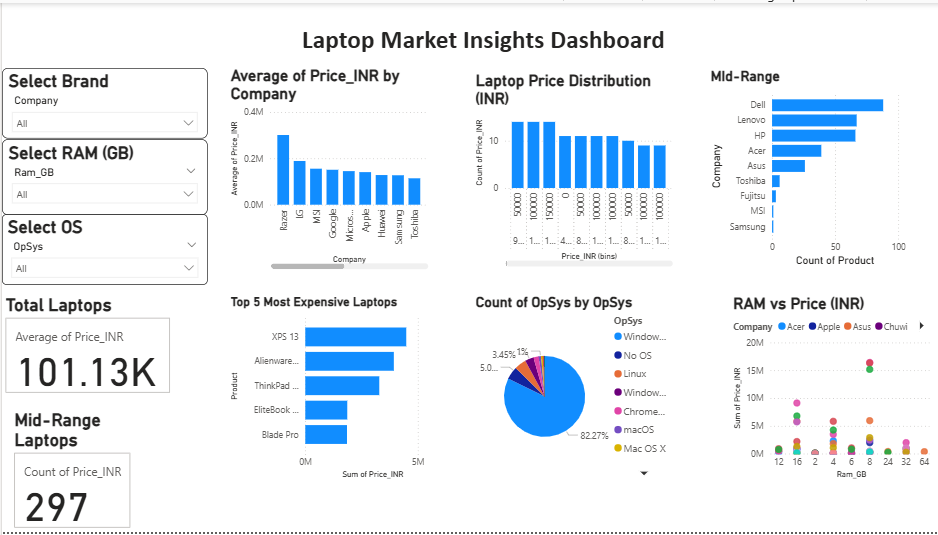

The page's visual inventory and layout, read from the dashboard file:
{"tool":"powerbi","page":{"name":"Page 1","canvas":[1280,720],"ordinal":0},"visuals":[{"type":"cardVisual","title":"Total Laptops","fields":{"Data":["Avg(Laptops.Price_INR)"]},"box":[0,426.7,234.9,139.5],"z":0},{"type":"cardVisual","title":"Mid-Range Laptops","fields":{"Data":["CountNonNull(Laptops.Price_INR)"]},"box":[0,579.1,225.6,140.7],"z":1000},{"type":"clusteredColumnChart","fields":{"Category":["Laptops.Company"],"Y":["Avg(Laptops.Price_INR)"]},"box":[306.4,86.8,279.1,280.9],"z":2000},{"type":"clusteredColumnChart","title":"Laptop Price Distribution (INR)","fields":{"Category":["Laptops.Price_INR","Laptops.Price_INR (bins)"],"Y":["CountNonNull(Laptops.Price_INR)"]},"box":[639.5,93.3,278.6,270.3],"z":3000},{"type":"clusteredBarChart","title":"Top 5 Most Expensive Laptops","fields":{"Category":["Laptops.Product"],"Y":["Sum(Laptops.Price_INR)"]},"box":[306.4,396.6,304.7,257],"z":4000},{"type":"scatterChart","title":"RAM vs Price (INR)","fields":{"Series":["Laptops.Company"],"Y":["Sum(Laptops.Price_INR)"],"X":["Laptops.Ram_GB"]},"box":[990.6,396.6,280.9,257],"z":5000},{"type":"pieChart","fields":{"Category":["Laptops.OpSys"],"Y":["CountNonNull(Laptops.OpSys)"]},"box":[640,396.6,279.1,257],"z":6000},{"type":"clusteredBarChart","title":"MId-Range","fields":{"Category":["Laptops.Company"],"Y":["CountNonNull(Laptops.Product)"]},"box":[960,88.5,275.7,275.7],"z":7000},{"type":"textbox","title":"Laptop Market Insights Dashboard","box":[362.3,28.8,585.9,46.7],"z":8000},{"type":"slicer","title":"Select Brand","fields":{"Values":["Laptops.Company"]},"box":[0,89.2,279.9,96.1],"z":9000},{"type":"slicer","title":"Select RAM (GB)","fields":{"Values":["Laptops.Ram_GB"]},"box":[0,185.2,279.9,102.9],"z":10000},{"type":"slicer","title":"Select OS","fields":{"Values":["Laptops.OpSys"]},"box":[0,288.2,279.9,96.1],"z":11000}]}

Visuals, with their boxes in screenshot pixels (x1, y1, x2, y2), scaled from the page's 1280x720 canvas onto the 938x535 screenshot:
"Total Laptops" cardVisual: 0:317:172:421
"Mid-Range Laptops" cardVisual: 0:430:165:534
clusteredColumnChart - Laptops.Company x Avg(Laptops.Price_INR): 225:64:429:273
"Laptop Price Distribution (INR)" clusteredColumnChart: 469:69:673:270
"Top 5 Most Expensive Laptops" clusteredBarChart: 225:295:448:486
"RAM vs Price (INR)" scatterChart: 726:295:932:486
pieChart - Laptops.OpSys x CountNonNull(Laptops.OpSys): 469:295:674:486
"MId-Range" clusteredBarChart: 704:66:906:271
"Laptop Market Insights Dashboard" textbox: 265:21:695:56
"Select Brand" slicer: 0:66:205:138
"Select RAM (GB)" slicer: 0:138:205:214
"Select OS" slicer: 0:214:205:286
